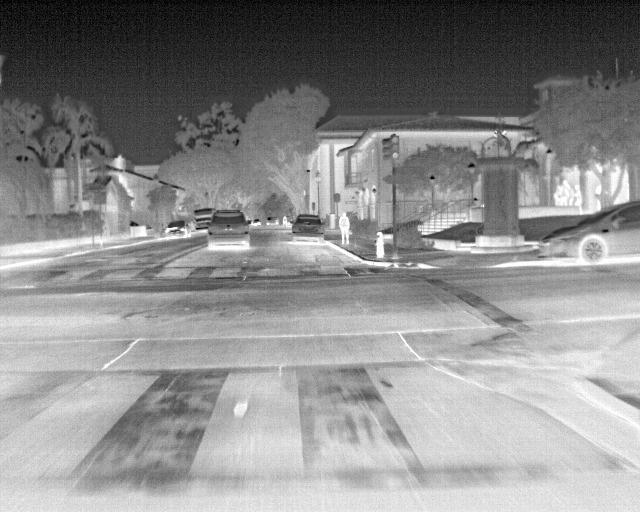bicycle: (537, 200, 639, 267), (206, 209, 249, 247), (290, 212, 324, 244), (192, 207, 218, 233), (162, 220, 192, 240), (250, 217, 261, 228)
empty: (336, 210, 352, 246)
